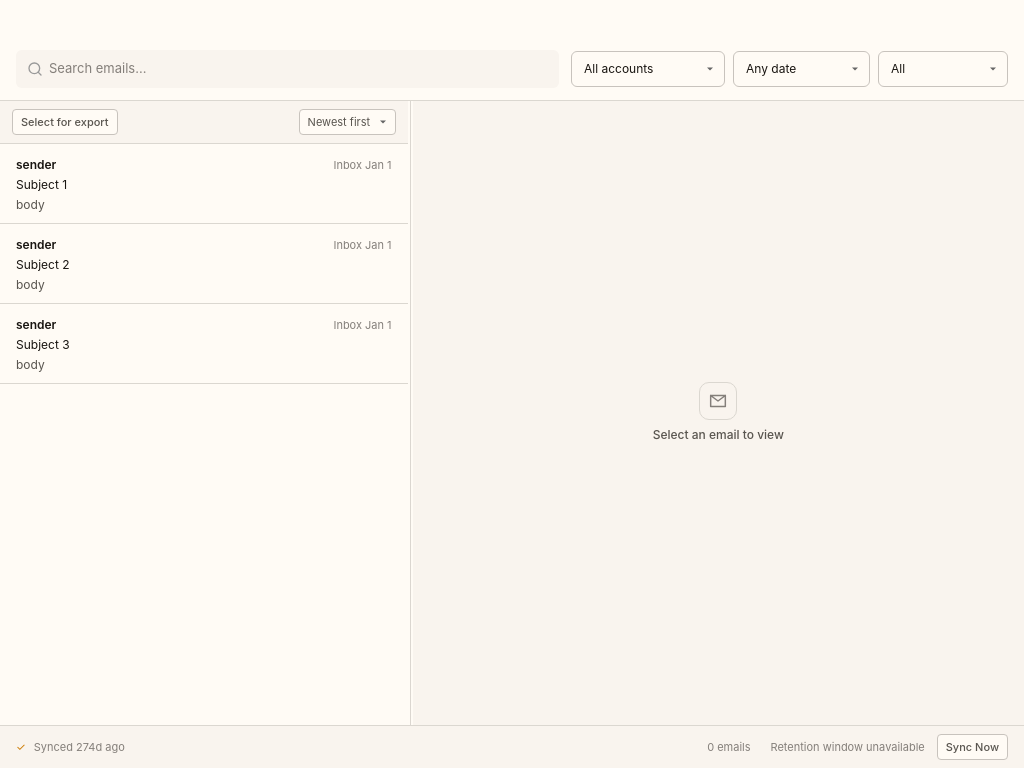
it: archive reliability › slow preview cannot replace the newly selected message
Click the text "Subject 1": (42, 184) [16,177,67,192]
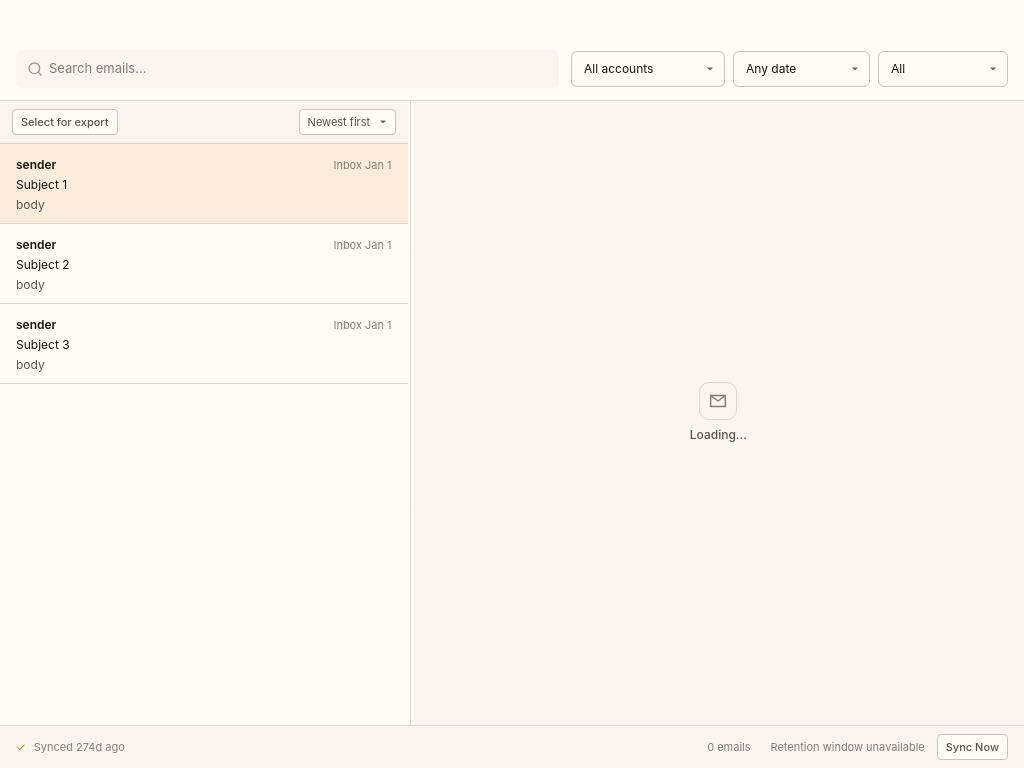
Click the text "Subject 2": (43, 264) [16,257,70,272]
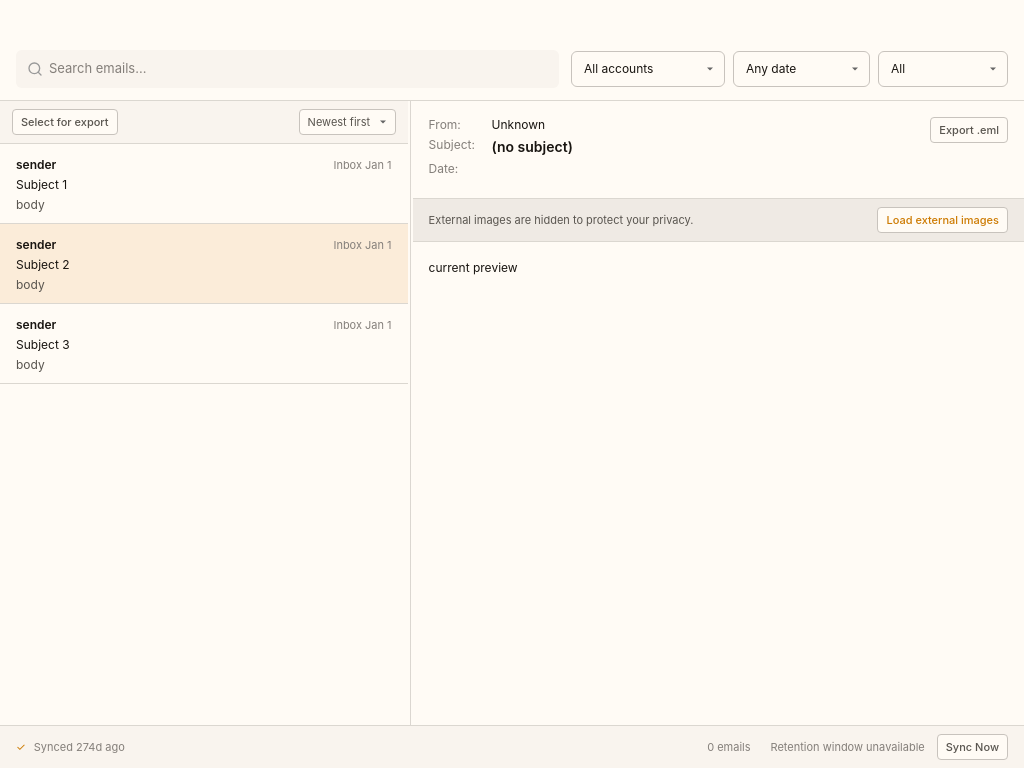
Check: the text "current preview" is shown, box [429,260,518,275]
